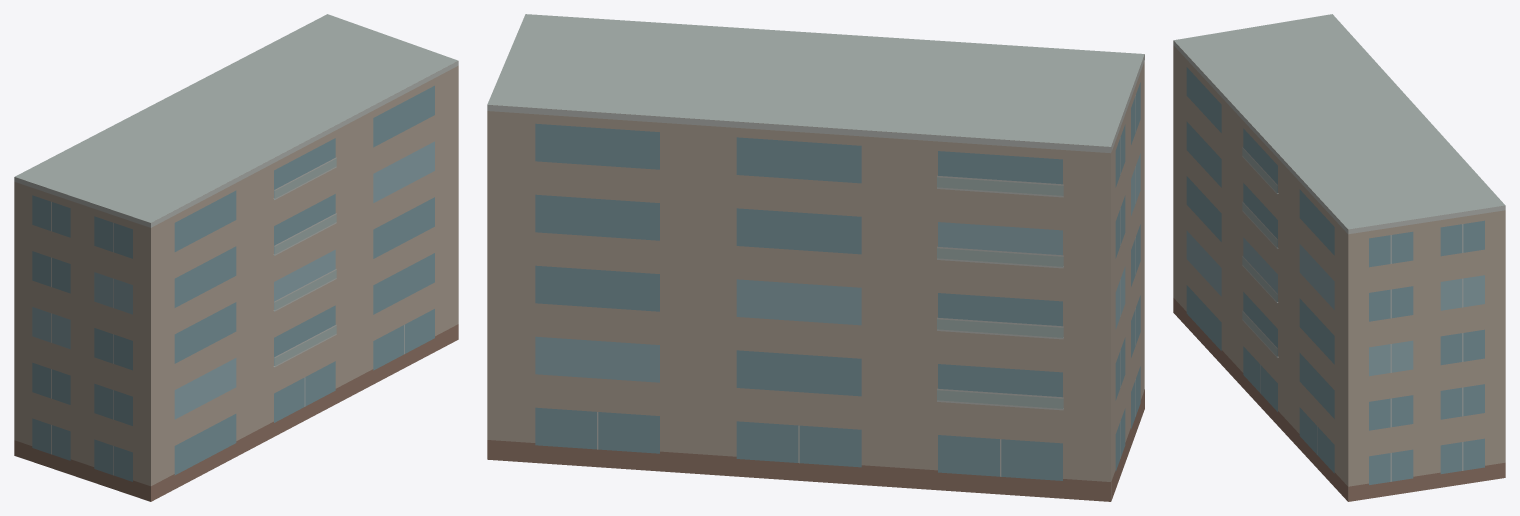
Rendered from survey-upis-32706457.glb.
3 renders of one model, left to right at view 1: azimuth 30°, elevation 25°; view 2: azimuth 150°, elevation 25°; view 3: azimuth 270°, elevation 25°, orthographic. The views are drawn at different scales.
Visible parts, largest first — view 1: survey-upis-32706457.tmp; view 2: survey-upis-32706457.tmp; view 3: survey-upis-32706457.tmp.
Boxes of the visible parts, box(x1,y1,x2,y2) form: survey-upis-32706457.tmp: box(14, 14, 458, 501); survey-upis-32706457.tmp: box(487, 14, 1144, 501); survey-upis-32706457.tmp: box(1173, 14, 1505, 501).
Bounding box in the file's own units: 23.51 × 13.85 × 15.32.
